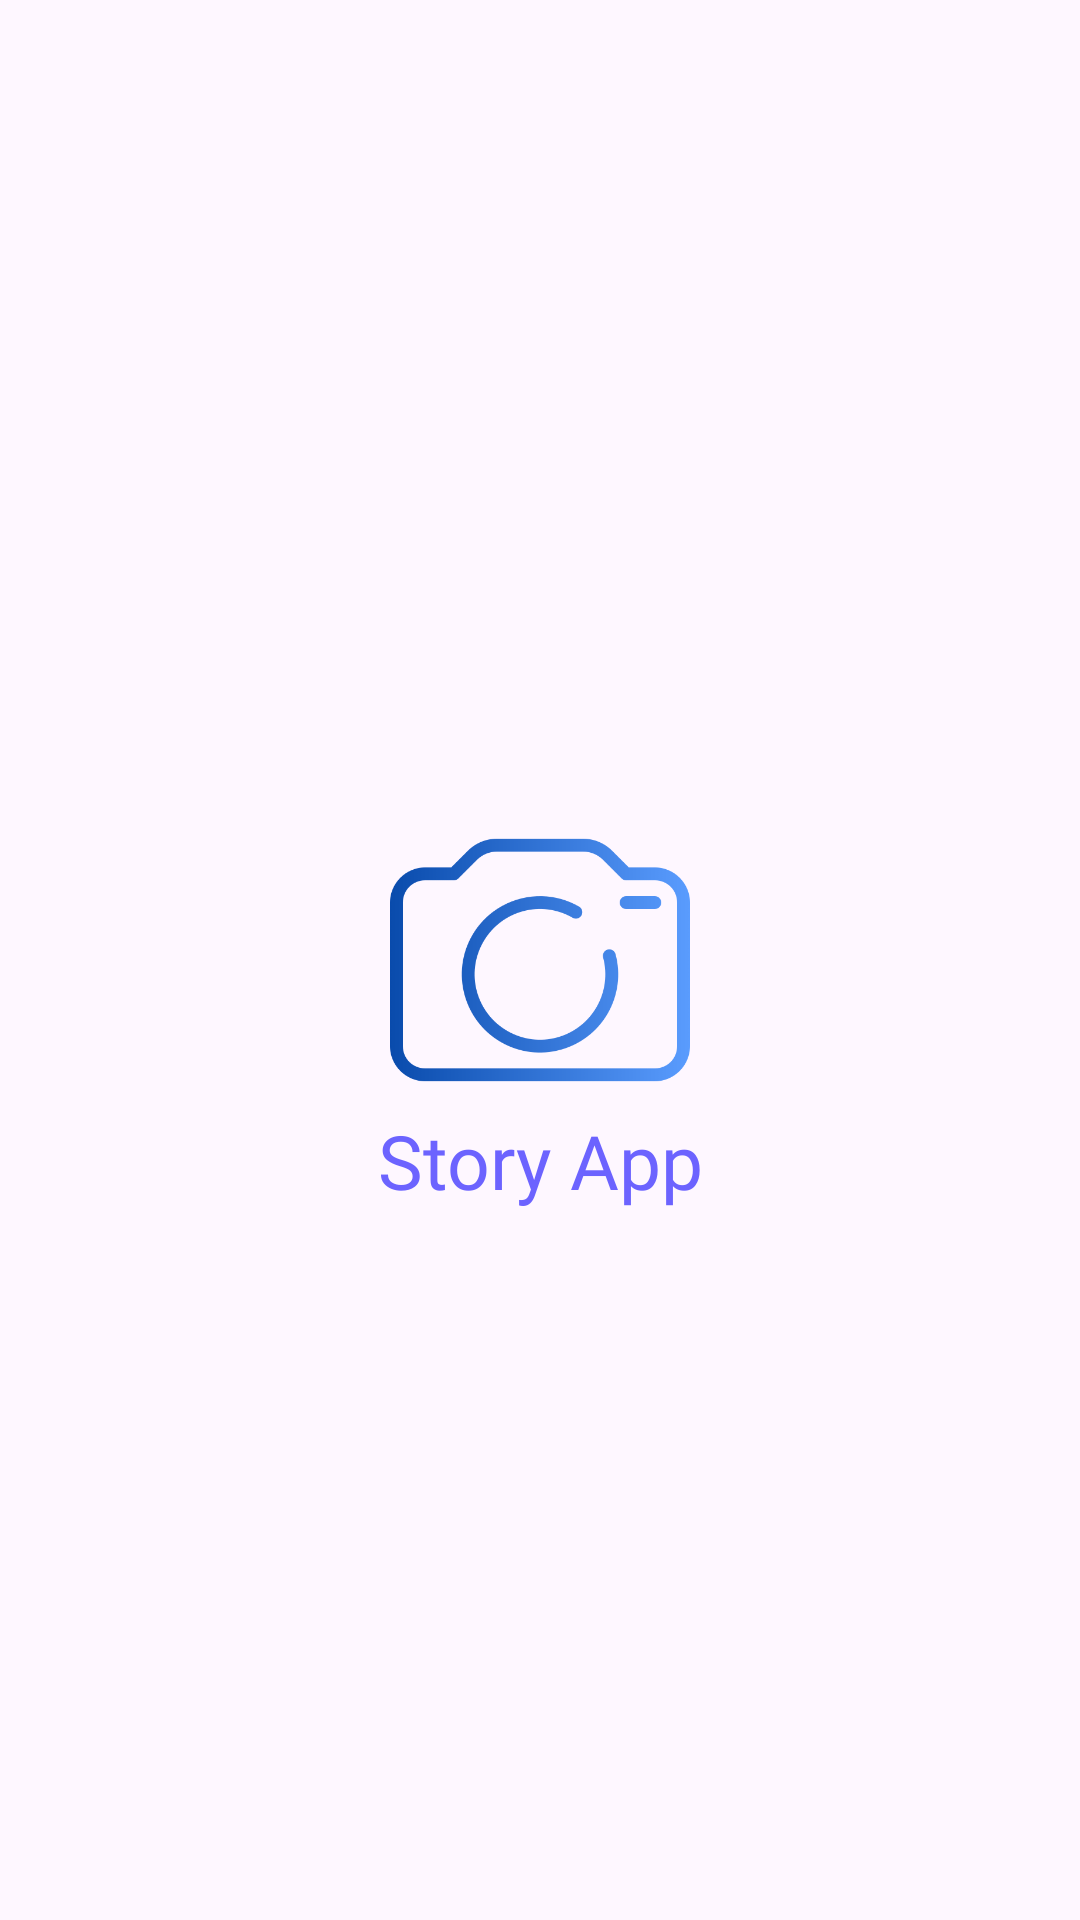

Where to tap for icons on this 1080 × 1920 app screen, as (x,y):
camera: (540,960)
